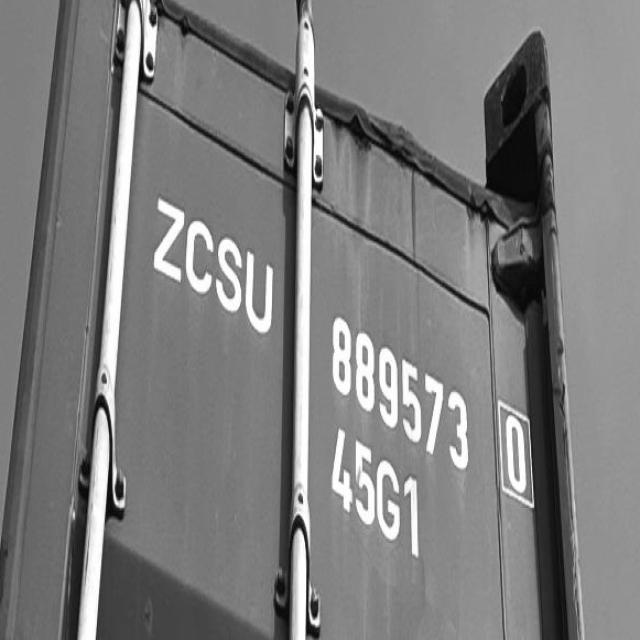dv: (489, 392, 539, 512)
owner: (146, 183, 278, 345)
serial: (325, 301, 472, 474)
size: (320, 424, 430, 576)
